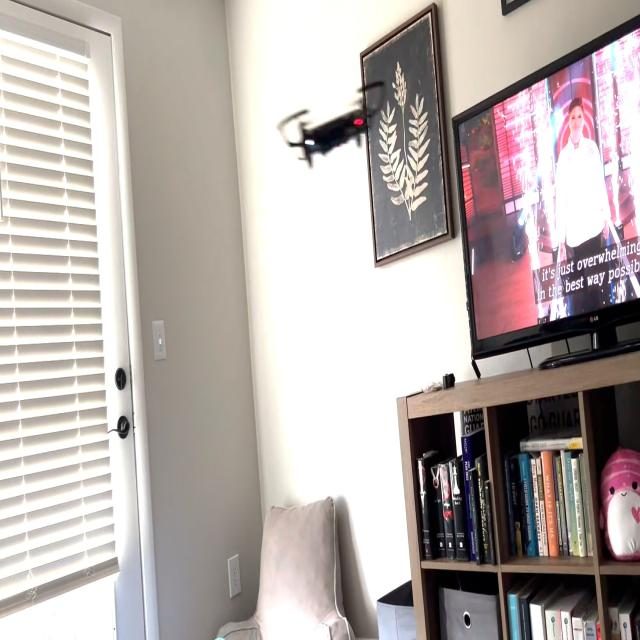drone: (266, 63, 396, 180)
